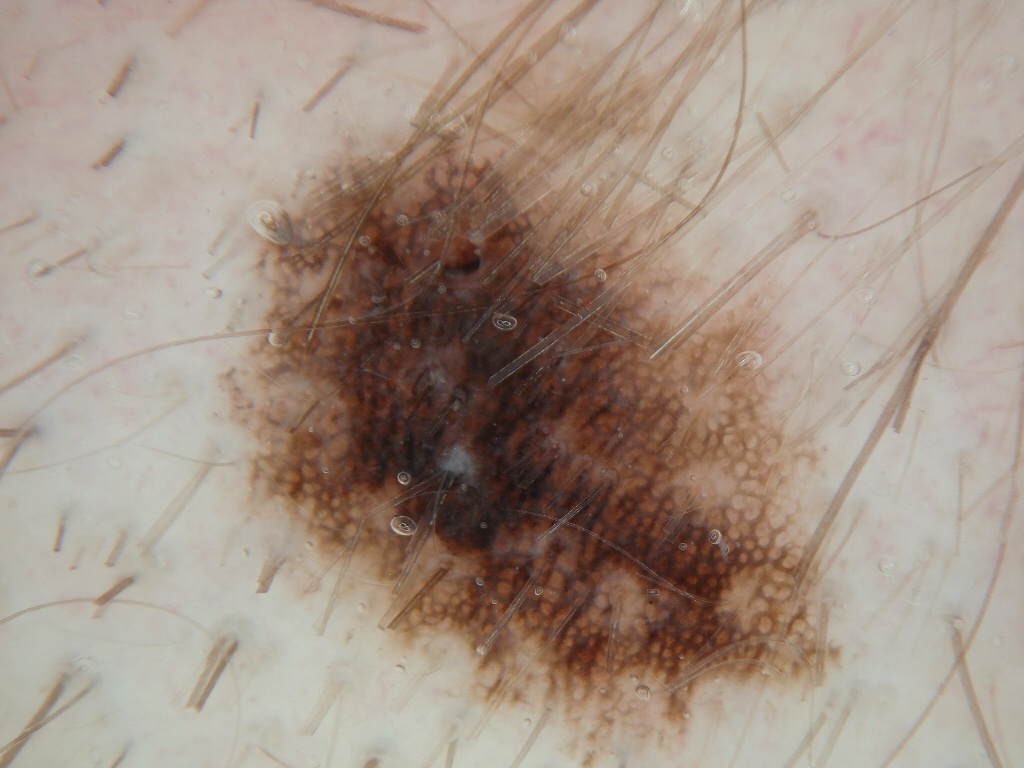Detected Lesion: (211, 40, 847, 755)
